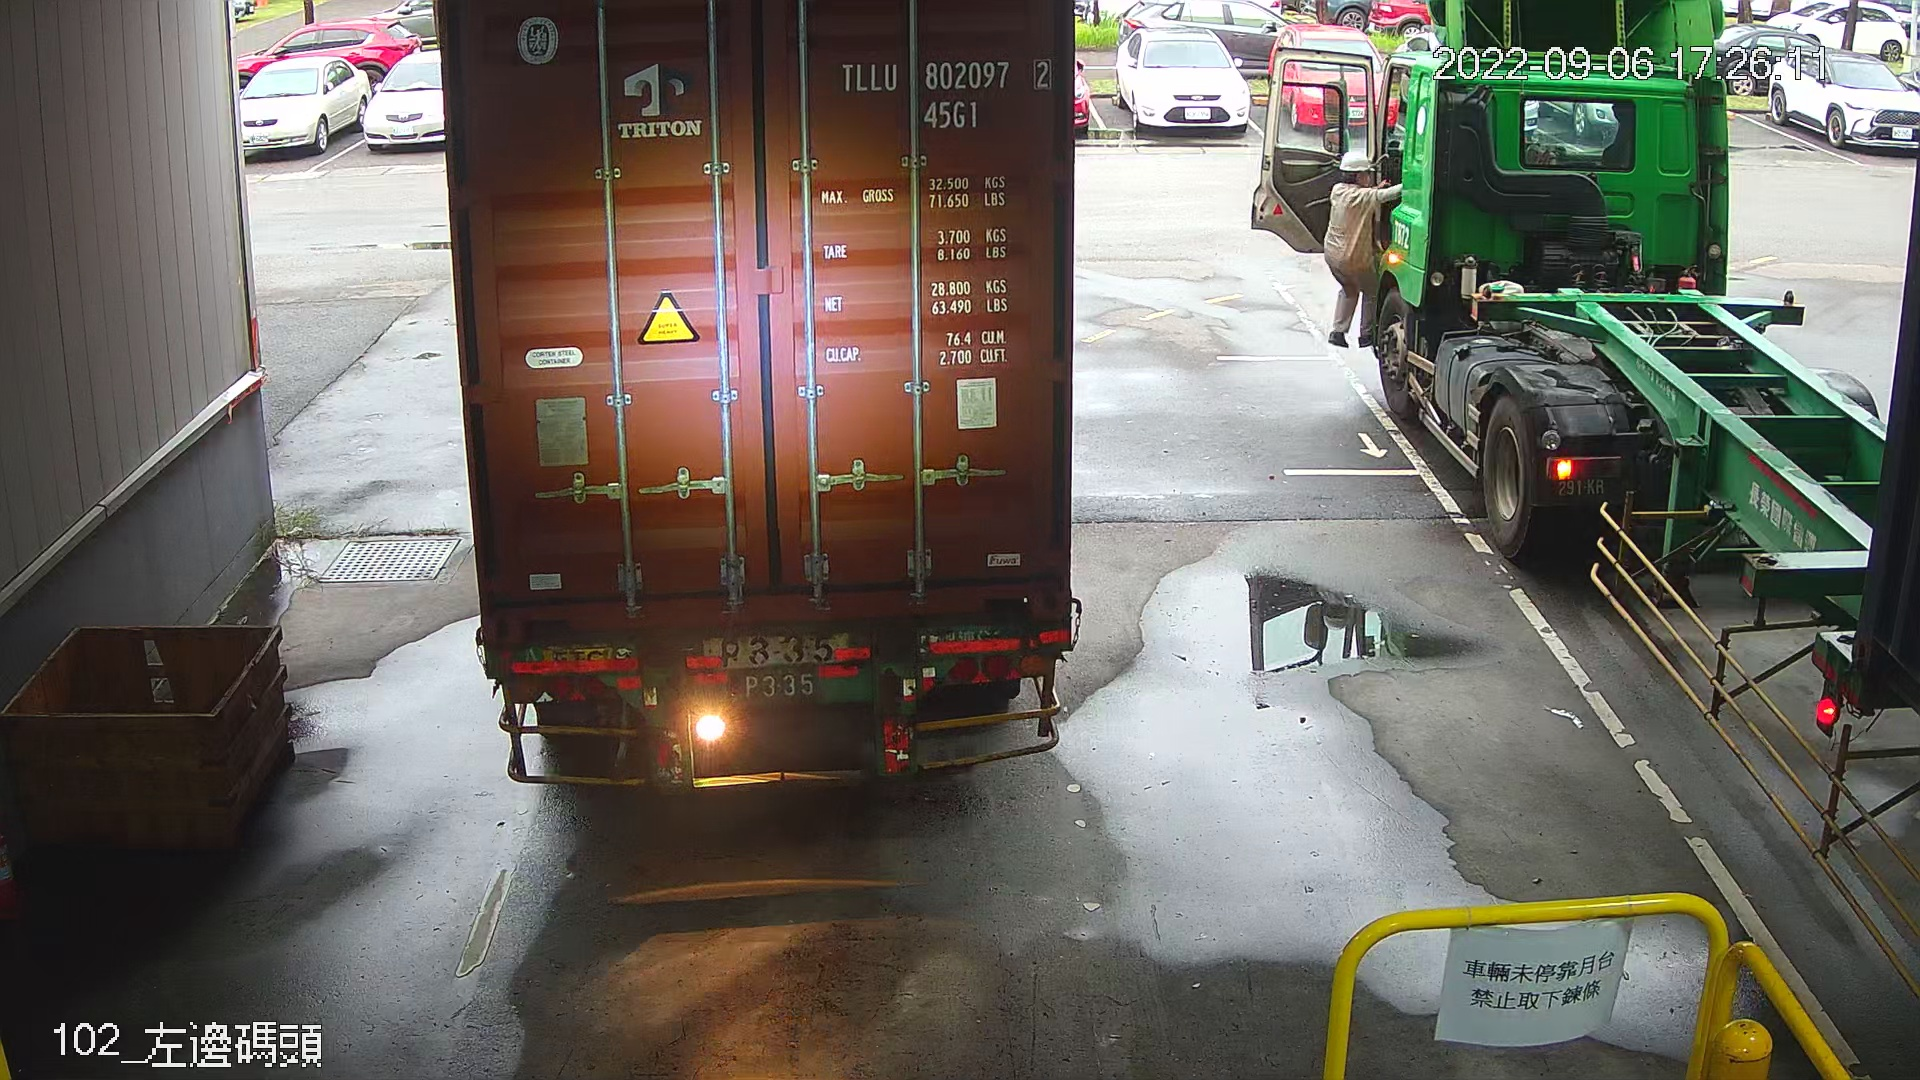container: (832, 51, 1063, 136)
